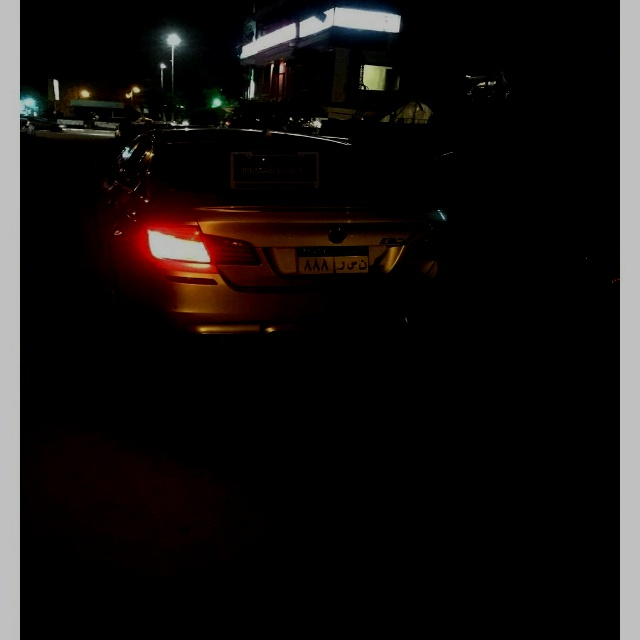License Plate: (292, 244, 374, 278)
